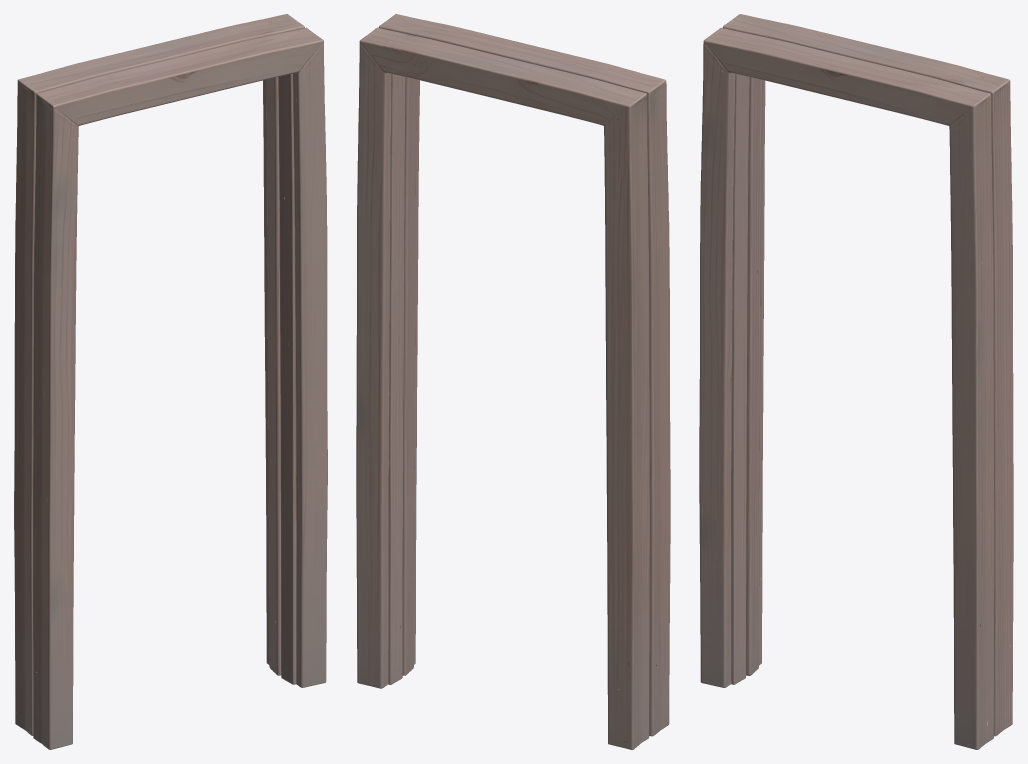
Rendered from marco_en_madera_puerta.glb.
3 views of the same model, side by side, from view 1: azimuth 30°, elevation 25°; view 2: azimuth 150°, elevation 25°; view 3: azimuth 330°, elevation 25° (orthographic).
Visible parts, largest first — view 1: texture_pbr_v128_0; view 2: texture_pbr_v128_0; view 3: texture_pbr_v128_0.
Boxes of the visible parts, bbox=[...] form: texture_pbr_v128_0: bbox=[14, 14, 327, 749]; texture_pbr_v128_0: bbox=[356, 14, 670, 749]; texture_pbr_v128_0: bbox=[699, 14, 1013, 749].
Size of the model in its own units: 0.4931 by 1.09 by 0.1137.
1 material, 1 textured.
